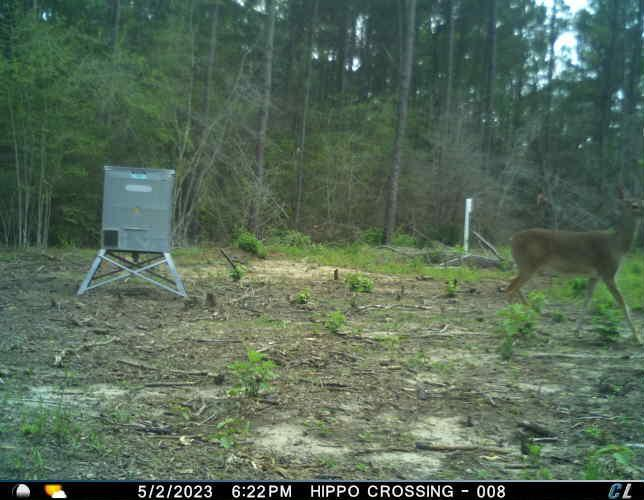Deer: (503, 193, 644, 348)
